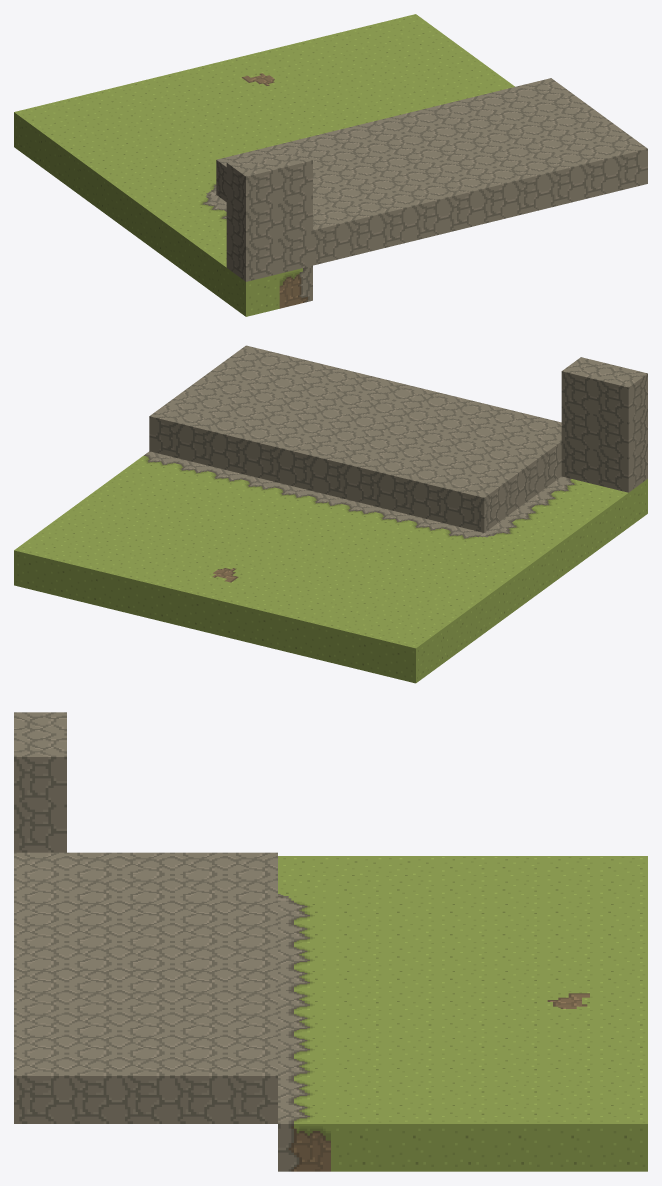
The model's file is map1.40.vox.obj.
3 views of the same model, one above another, from view 1: azimuth 30°, elevation 25°; view 2: azimuth 150°, elevation 25°; view 3: azimuth 270°, elevation 25° (orthographic). The views are drawn at different scales.
Bounding box in the file's own units: 24 × 8 × 24.
Materials: 1 (1 with a texture image).
